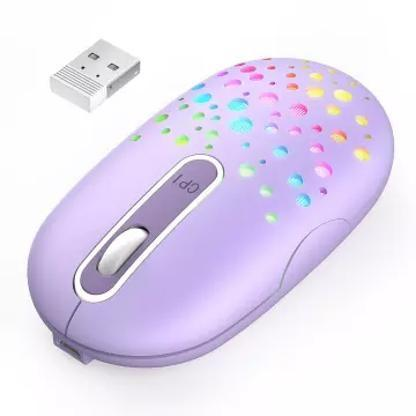not trash: (28, 56, 393, 371), (44, 38, 142, 108)
